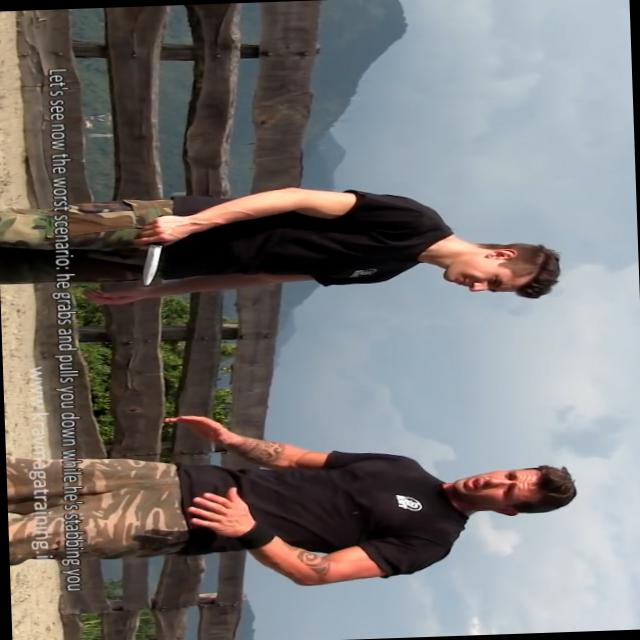knife: (130, 210, 182, 290)
